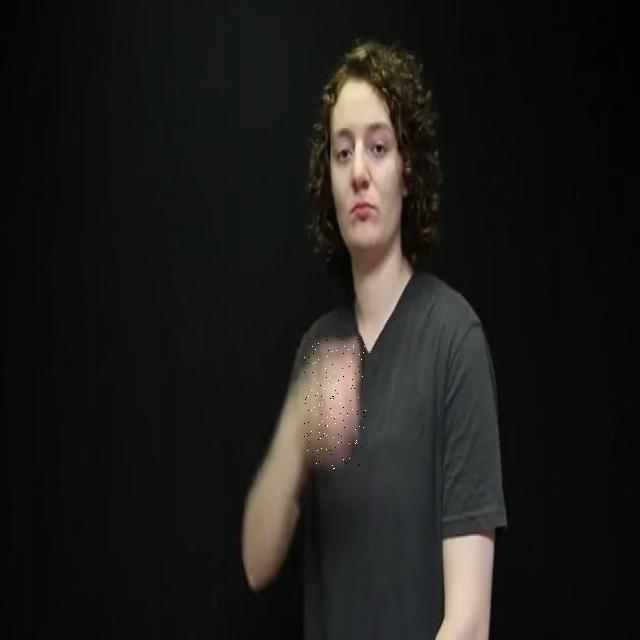drink: (304, 336, 366, 474)
